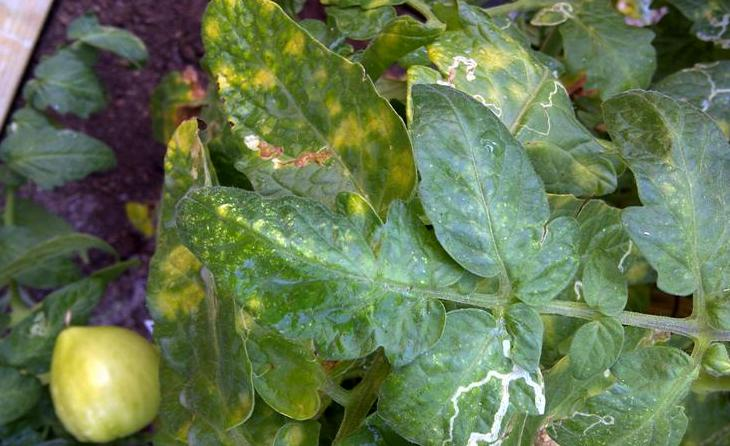Tomato mold leaf: (159, 184, 466, 370), (190, 0, 414, 234), (581, 59, 730, 317), (395, 76, 570, 289), (537, 336, 705, 446)
